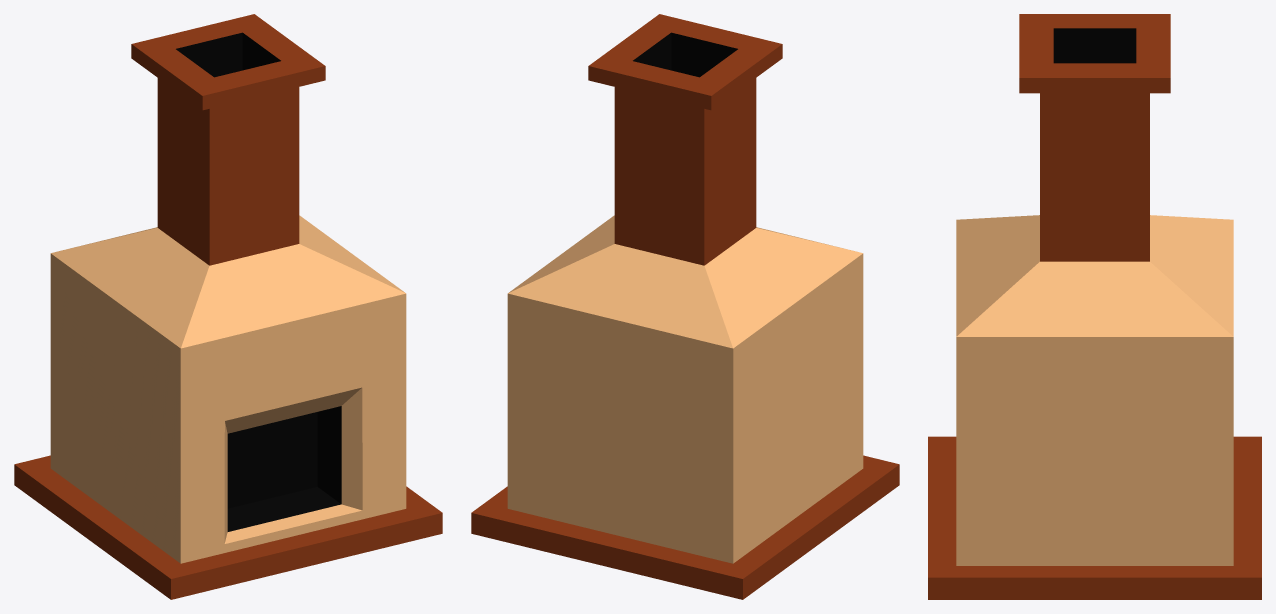
Rendered from DesertOven.fbx.
The picture shows the model from 3 angles, left to right: view 1: azimuth 30°, elevation 25°; view 2: azimuth 150°, elevation 25°; view 3: azimuth 270°, elevation 25°; orthographic projection. The views are drawn at different scales.
Parts seen in each view (by area): view 1: Cube; view 2: Cube; view 3: Cube.
Part boxes in pixels (x1=…): Cube: x1=14, y1=14, x2=442, y2=599; Cube: x1=471, y1=14, x2=899, y2=599; Cube: x1=928, y1=14, x2=1261, y2=599.
Bounding box in the file's own units: 241 × 385 × 241.
